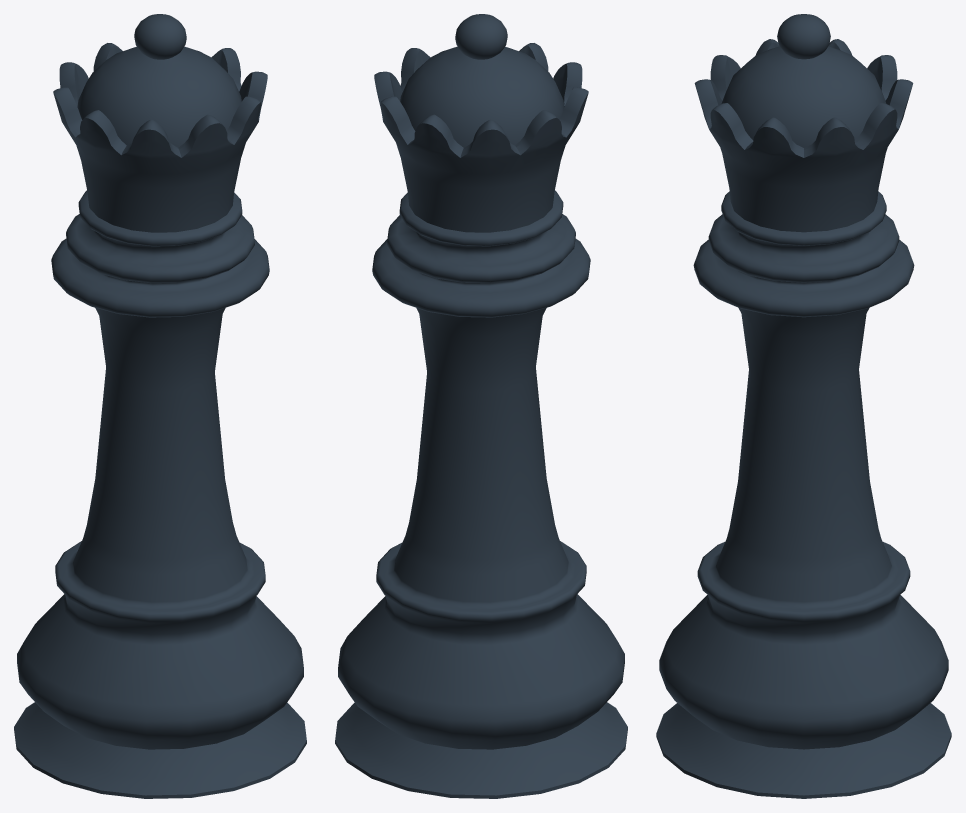
Rendered from black-queen.glb.
3 views of the same model, side by side, from view 1: azimuth 30°, elevation 25°; view 2: azimuth 150°, elevation 25°; view 3: azimuth 270°, elevation 25° (orthographic).
Visible parts, largest first — view 1: Queen1; view 2: Queen1; view 3: Queen1.
Boxes of the visible parts, left/top/right/bottom form: Queen1: left=14, top=14, right=306, bottom=798; Queen1: left=335, top=14, right=627, bottom=798; Queen1: left=656, top=14, right=951, bottom=798.
Bounding box in the file's own units: 0.0464 × 0.1256 × 0.0467.
